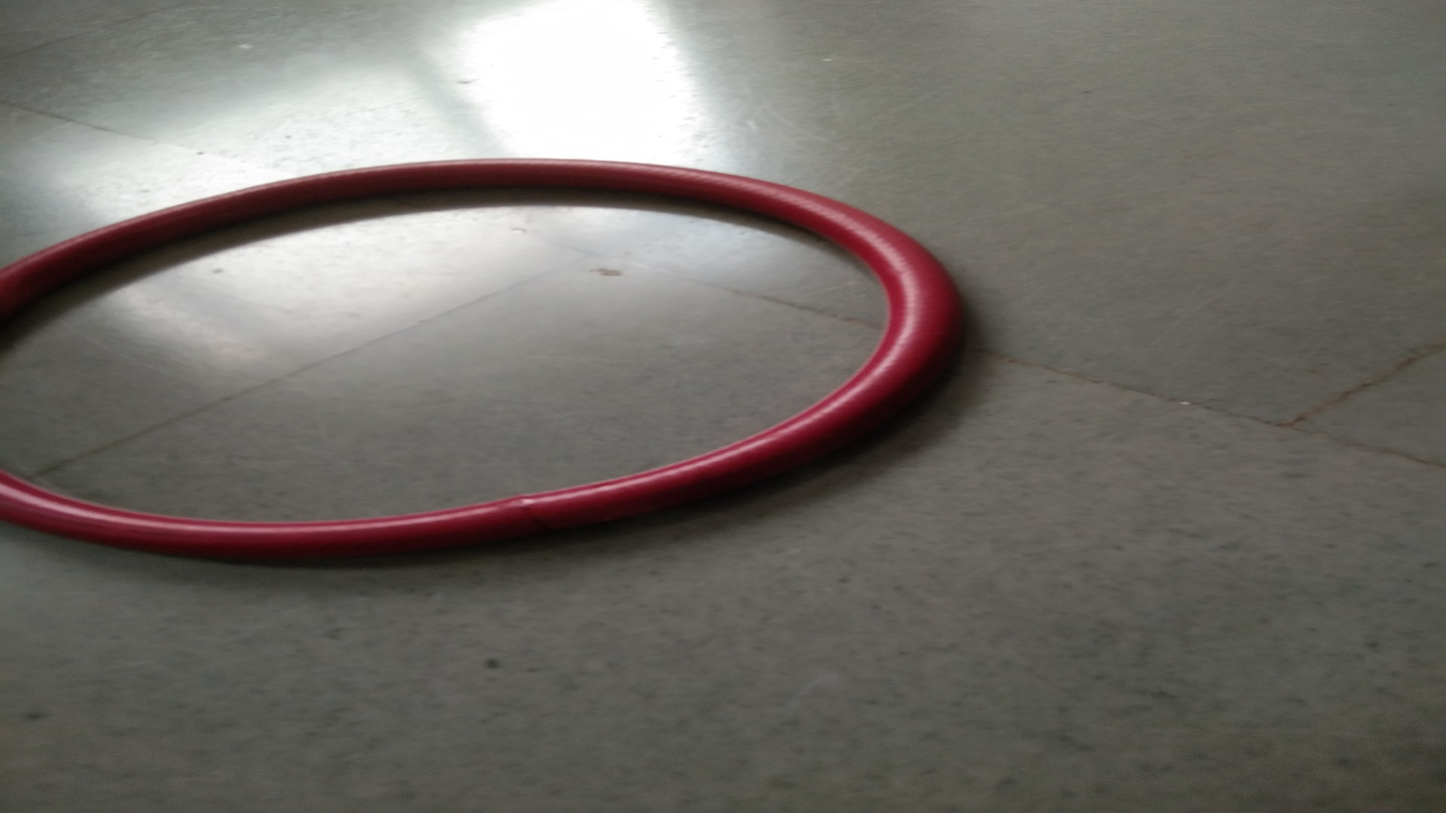Red ring: (6, 157, 956, 549)
